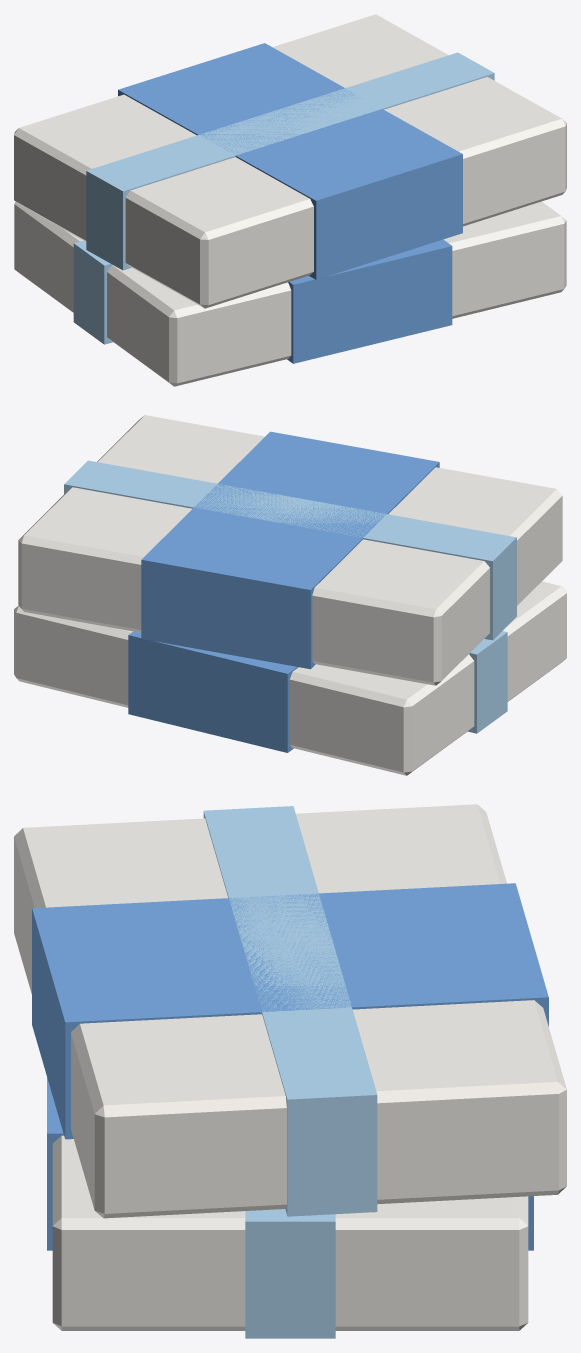
Rendered from prop_paper_ream_01.glb.
3 renders of one model, top to bottom at view 1: azimuth 30°, elevation 25°; view 2: azimuth 150°, elevation 25°; view 3: azimuth 270°, elevation 25°, orthographic. The views are drawn at different scales.
Visible parts, largest first — view 1: prop_paper_ream_01_body; view 2: prop_paper_ream_01_body; view 3: prop_paper_ream_01_body.
Boxes of the visible parts, <box> form: prop_paper_ream_01_body: <box>14,14,566,386</box>; prop_paper_ream_01_body: <box>14,415,566,775</box>; prop_paper_ream_01_body: <box>14,804,566,1338</box>.
Size of the model in its own units: 0.3224 by 0.117 by 0.244.
